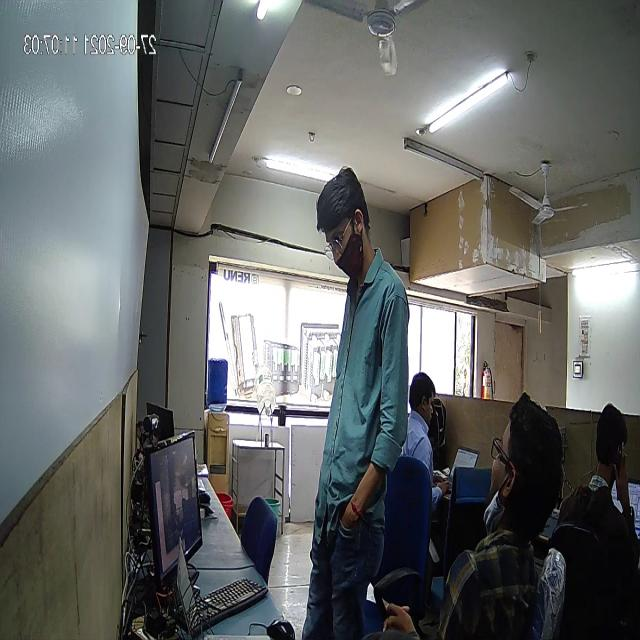adult: (294, 146, 421, 640)
